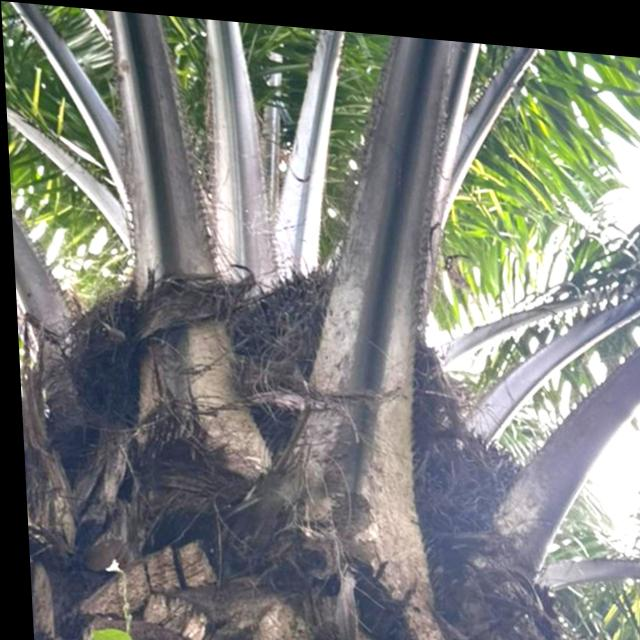almost: (240, 256, 450, 468), (405, 412, 527, 570)
